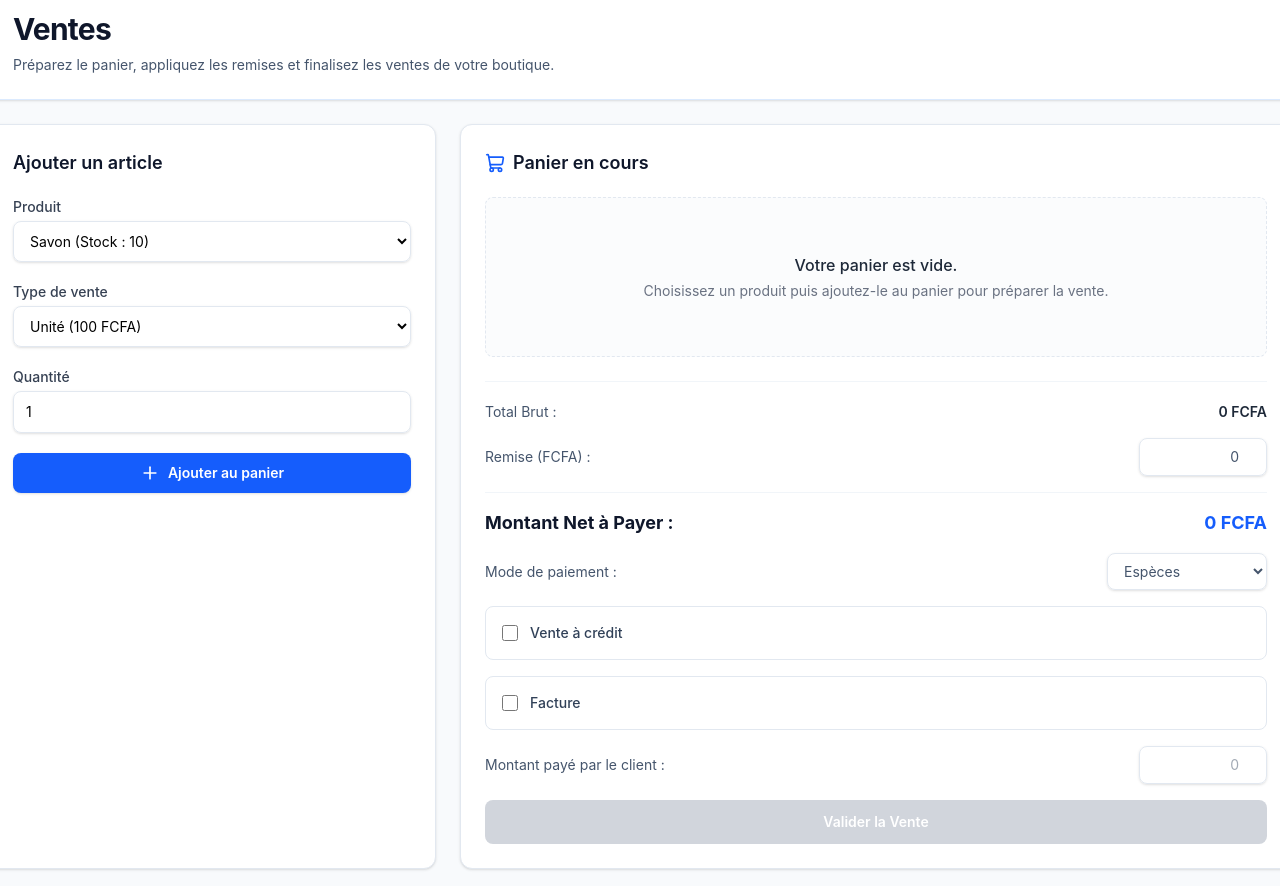
Scenario: Sales : case « Facture » › case cochée : facture demandée, numéro et boutons affichés, case remise à zéro
Click the button "Ajouter au panier": (212, 473) [13,453,411,493]
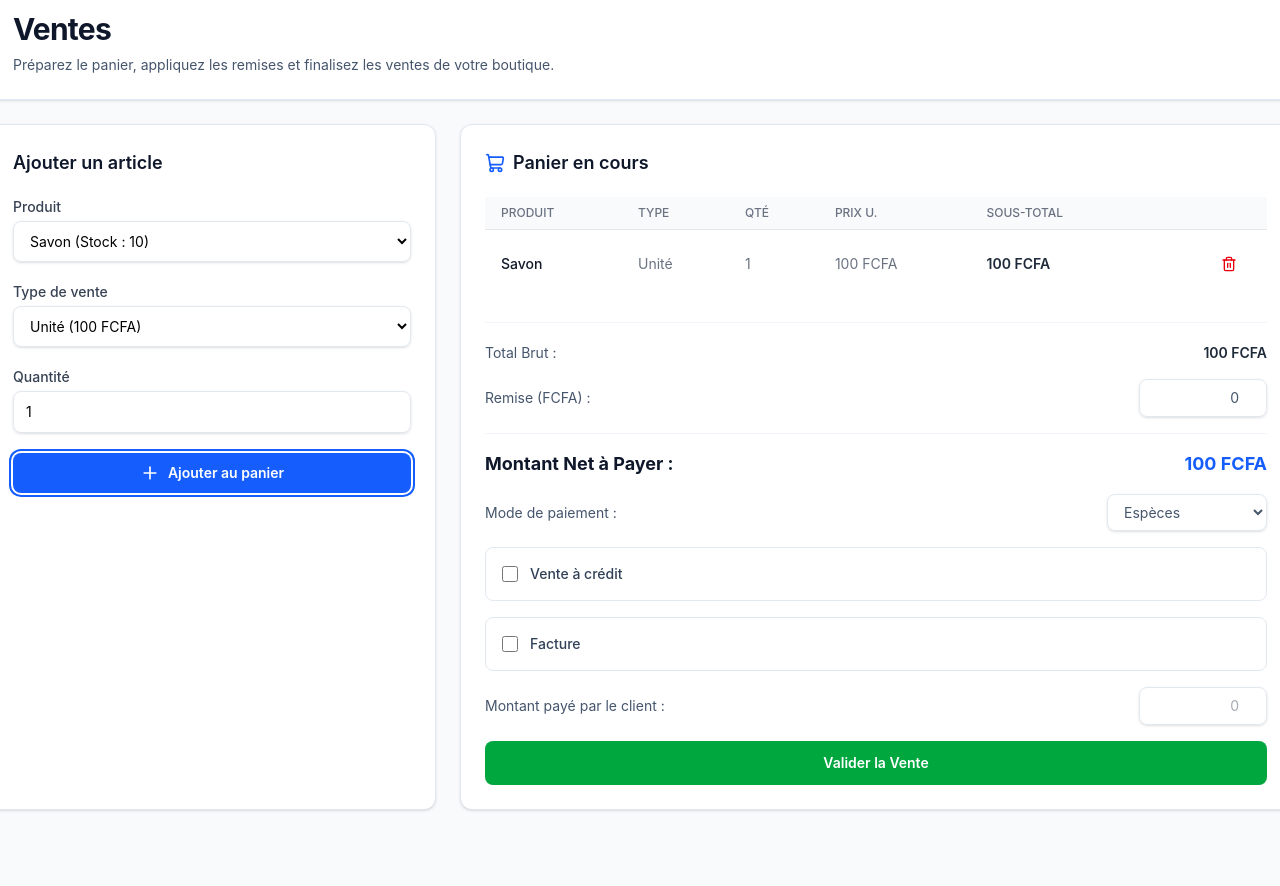
In the number field with placeholder "0": (1203, 706) [1139,687,1267,725], type "100"
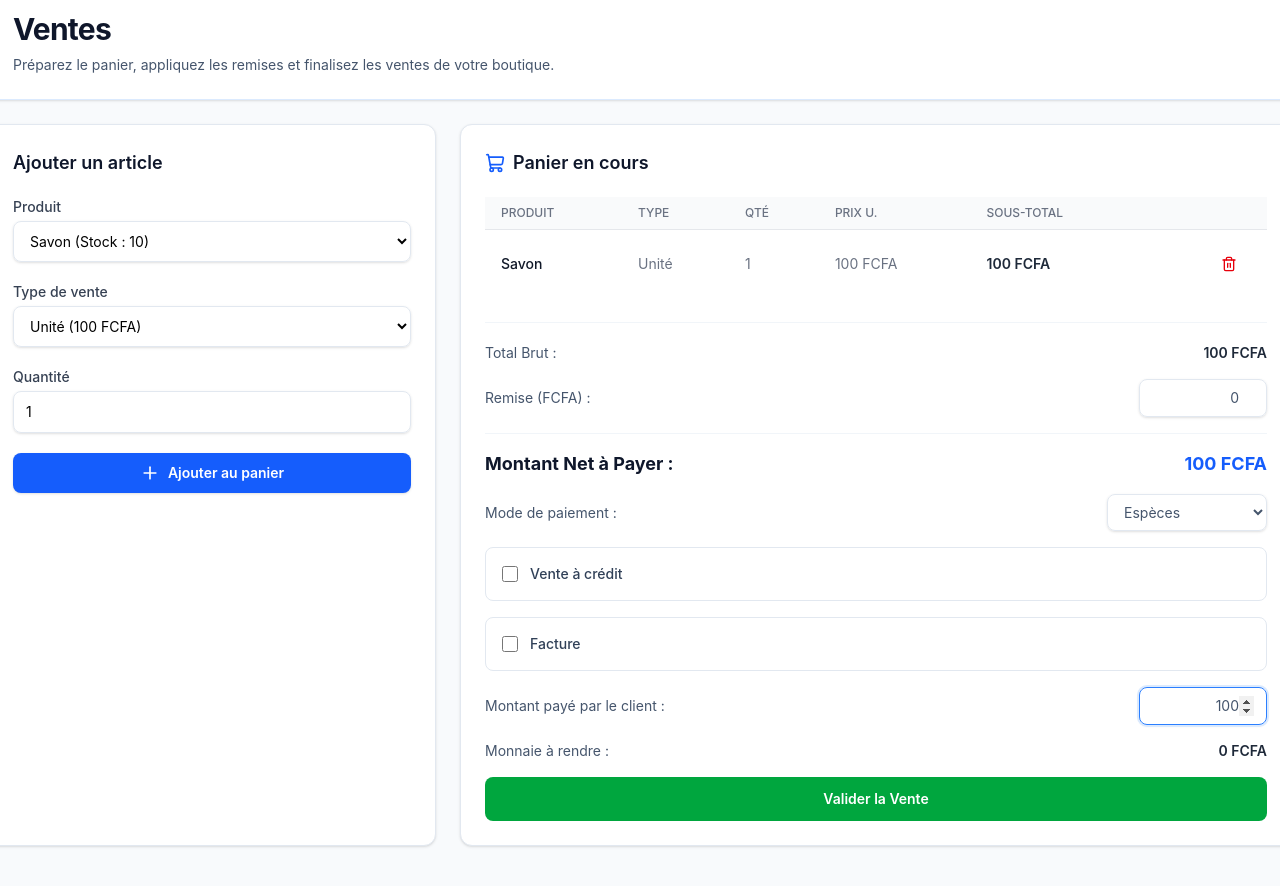
Click the checkbox labelled "Facture": (510, 644) [502,636,518,652]
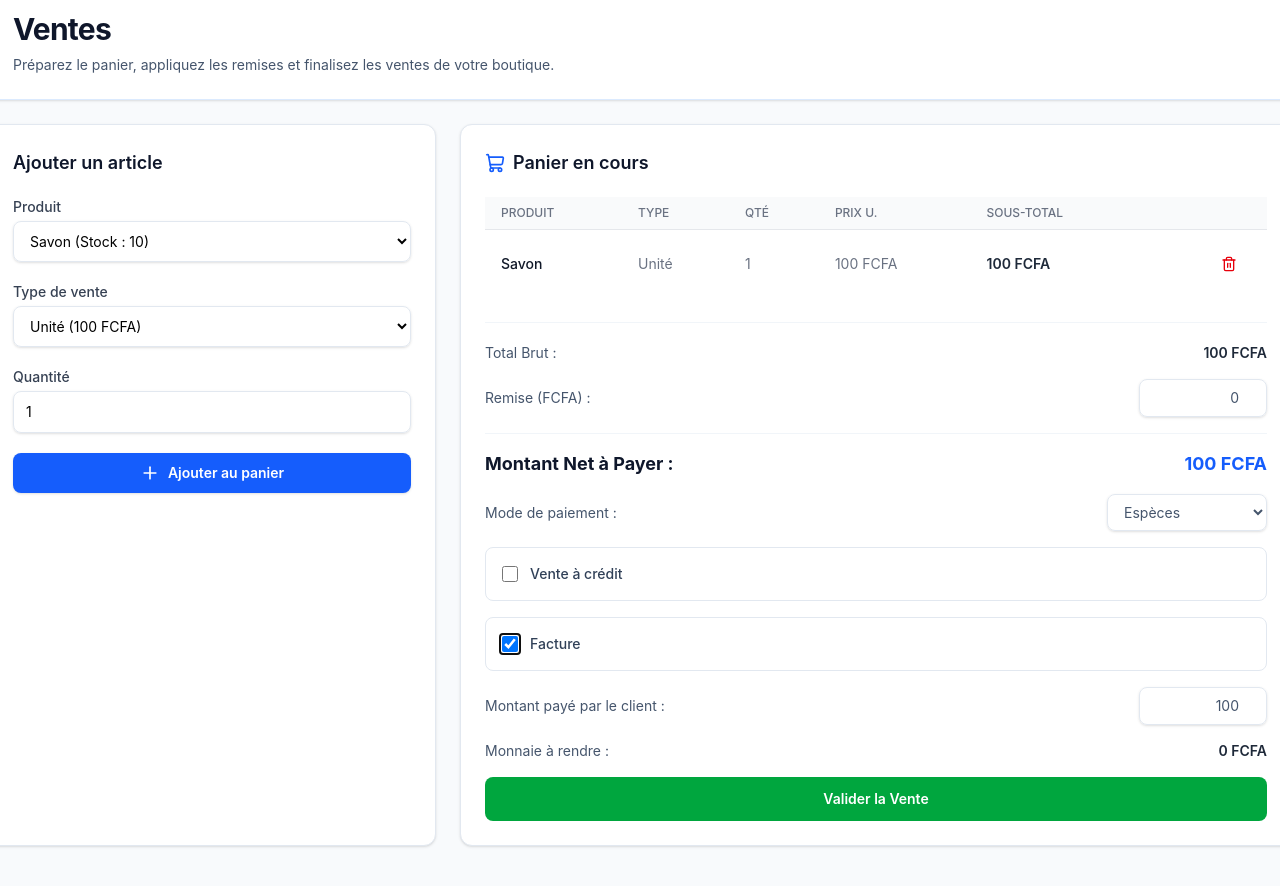
Click the button "Valider la Vente": (876, 799) [485,777,1267,821]
(page scrolled)
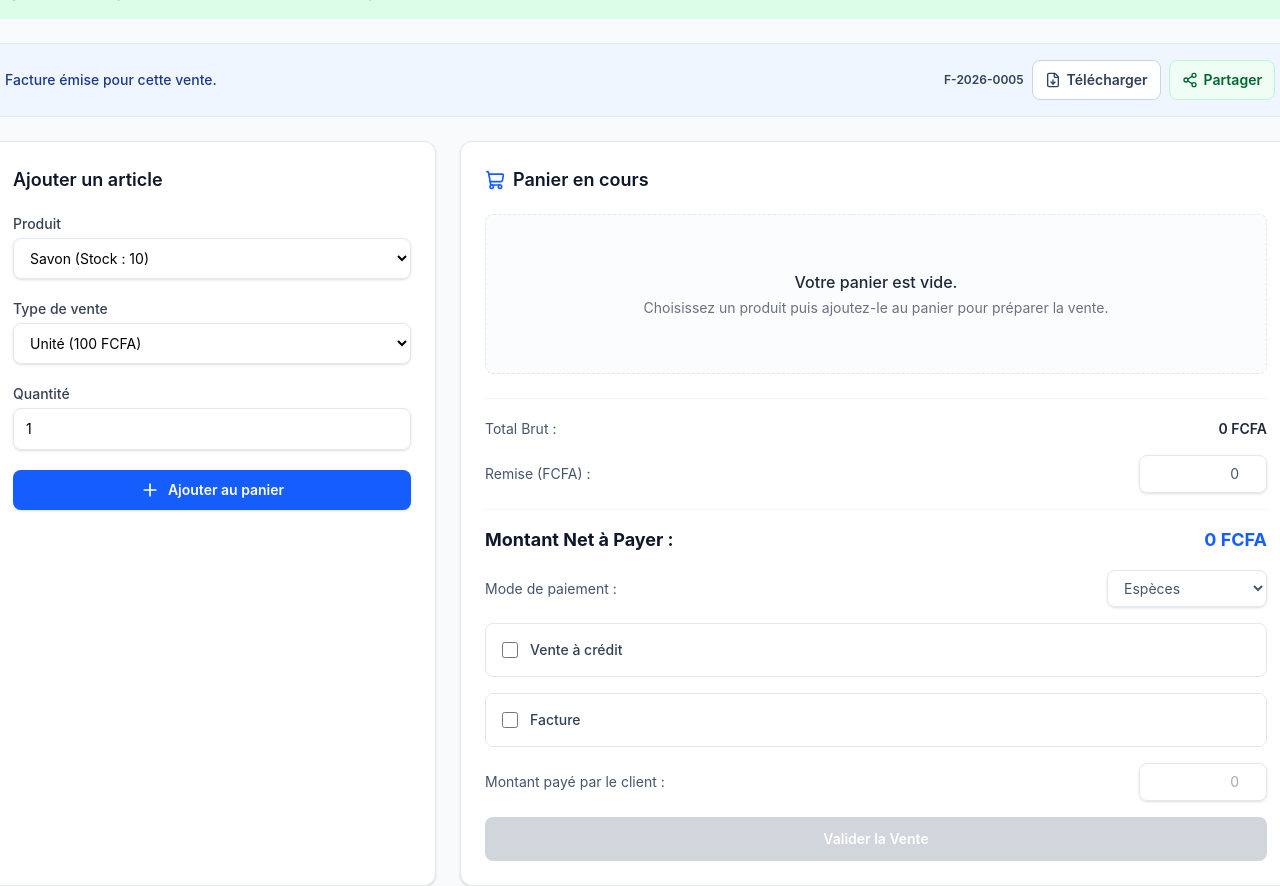
Now the text "Facture émise pour cette vente." is shown, box [5,70,217,90]
Now the text "F-2026-0005" is shown, box [944,72,1024,88]
Now the button with aria-label "Télécharger la facture F-2026-0005" is enabled, box [1032,60,1161,100]
